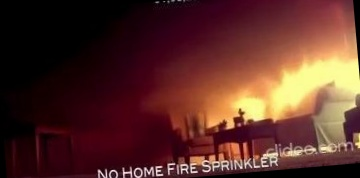fire: (222, 48, 360, 128)
